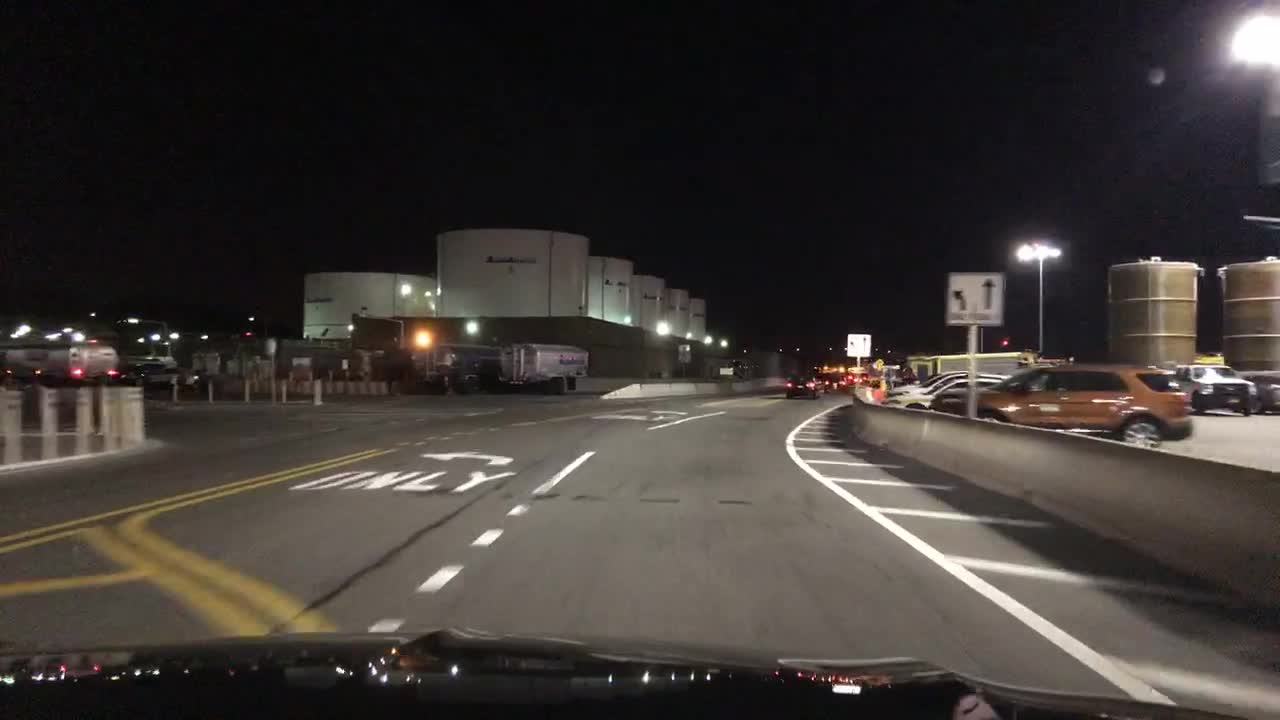car: (937, 363, 1194, 451), (1177, 362, 1255, 418), (875, 377, 1002, 409), (879, 373, 1011, 397), (885, 368, 969, 397), (1238, 370, 1278, 415), (149, 364, 193, 389), (783, 373, 818, 401), (114, 360, 147, 388), (822, 369, 851, 396), (190, 368, 208, 389), (813, 374, 828, 391), (857, 372, 872, 386), (843, 372, 856, 386), (868, 377, 881, 389), (853, 373, 865, 385)
traffic light: (999, 337, 1011, 345)
traffic sign: (943, 271, 1004, 327), (847, 333, 872, 356), (263, 335, 279, 357), (717, 366, 734, 376), (871, 356, 883, 370), (674, 344, 688, 354), (339, 358, 347, 371)
truck: (459, 339, 592, 397), (1, 338, 116, 391)
